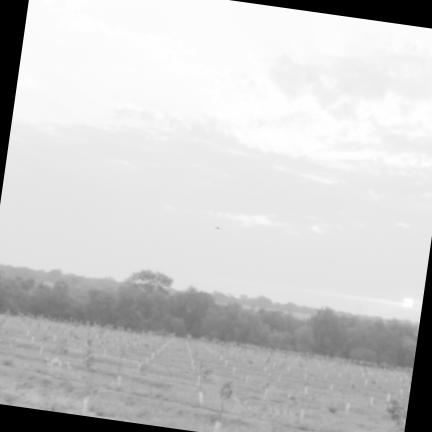Shahed: (214, 226, 222, 229)
